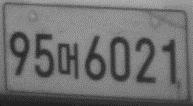0: (109, 35, 131, 82)
1: (161, 37, 177, 84)
2: (135, 37, 157, 84)
5: (33, 32, 54, 78)
6: (83, 33, 107, 81)
9: (7, 30, 31, 76)
머: (57, 42, 80, 81)
